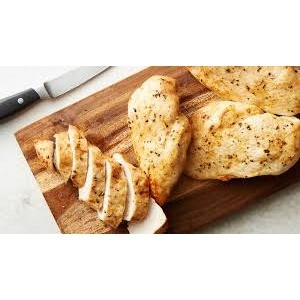chicken breast_brain food: (44, 131, 104, 203), (216, 121, 275, 171), (143, 139, 179, 172)
